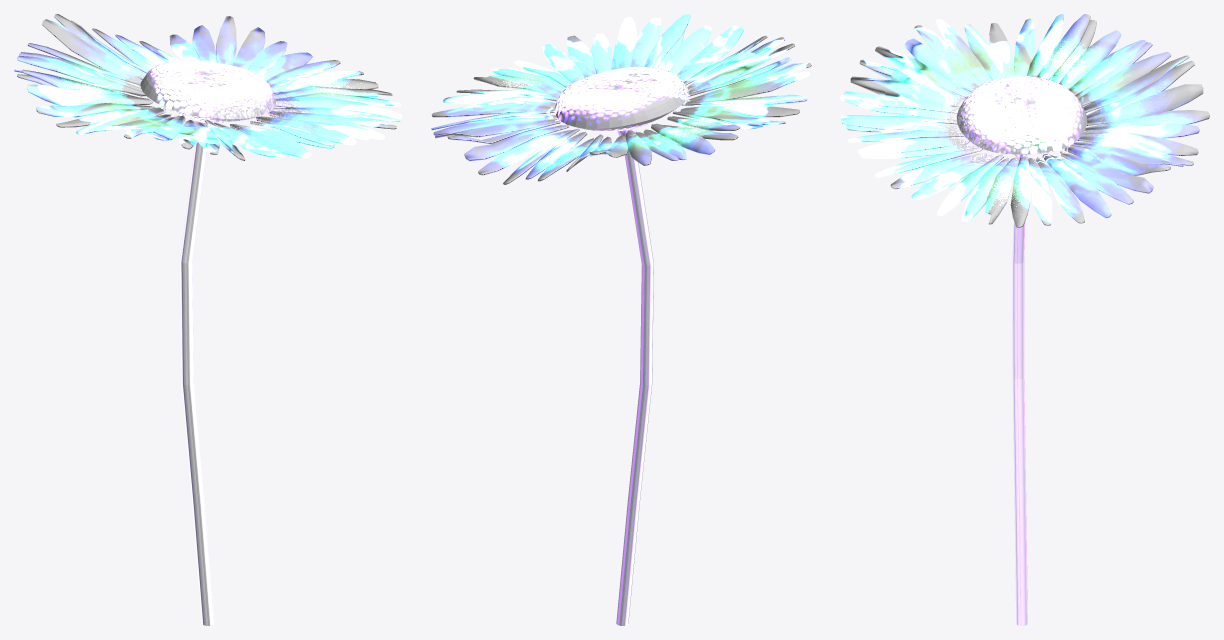
The model's file is daisy-v3.glb.
3 renders of one model, left to right at view 1: azimuth 30°, elevation 25°; view 2: azimuth 150°, elevation 25°; view 3: azimuth 270°, elevation 25°, orthographic. The views are drawn at different scales.
Parts seen in each view (by area): view 1: Plane.002; view 2: Plane.002; view 3: Plane.002.
Boxes of the visible parts, box(x1,y1,x2,y2) form: Plane.002: box(14, 14, 402, 625); Plane.002: box(431, 14, 811, 625); Plane.002: box(840, 14, 1209, 625).
Size of the model in its own units: 0.8964 by 1.44 by 0.8934.
